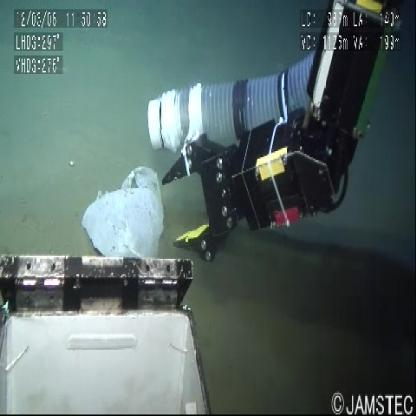Rov: (144, 2, 393, 266), (1, 245, 224, 413)
Rác: (80, 160, 167, 259)
